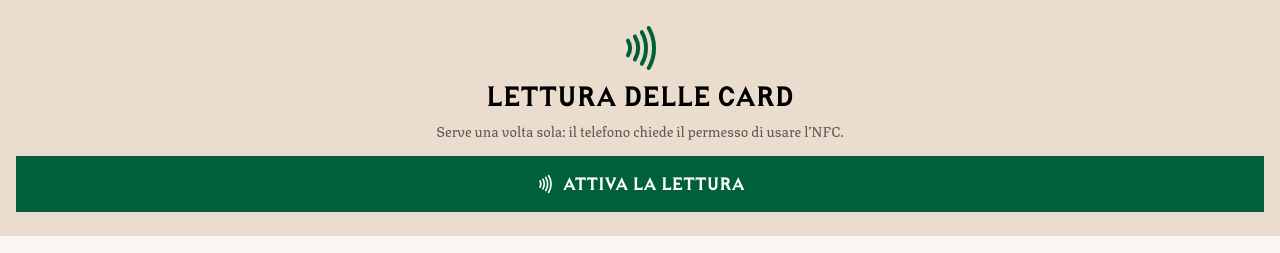
Test: CardReadPanel › prompt: "Attiva la lettura" starts the scan on tap, then active (criterion 2)
Expected: the text "Lettura delle card" is shown, [486, 79, 794, 112]
Expected: the text "Serve una volta sola: il telefono chiede il permesso di usare l’NFC." is shown, [436, 120, 844, 140]
Click the button "Attiva la lettura": (640, 184) [16, 156, 1264, 212]
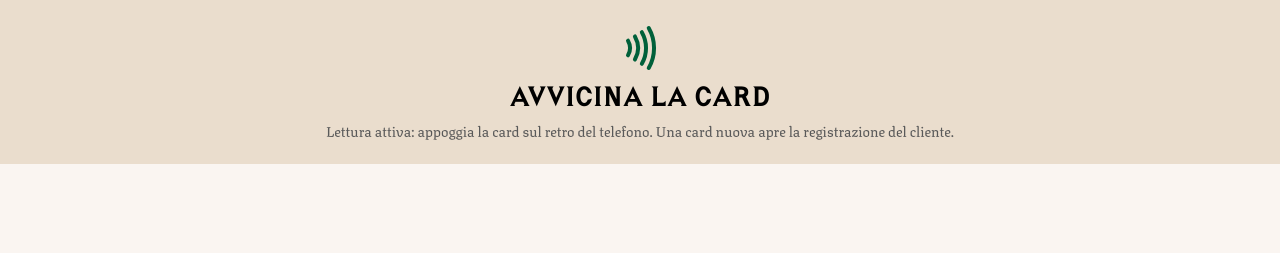
Result: the text "Lettura attiva: appoggia la card sul retro del telefono. Una card nuova apre la registrazione del cliente." is shown at [326, 119, 954, 141]
Result: the button "Attiva la lettura" is gone
